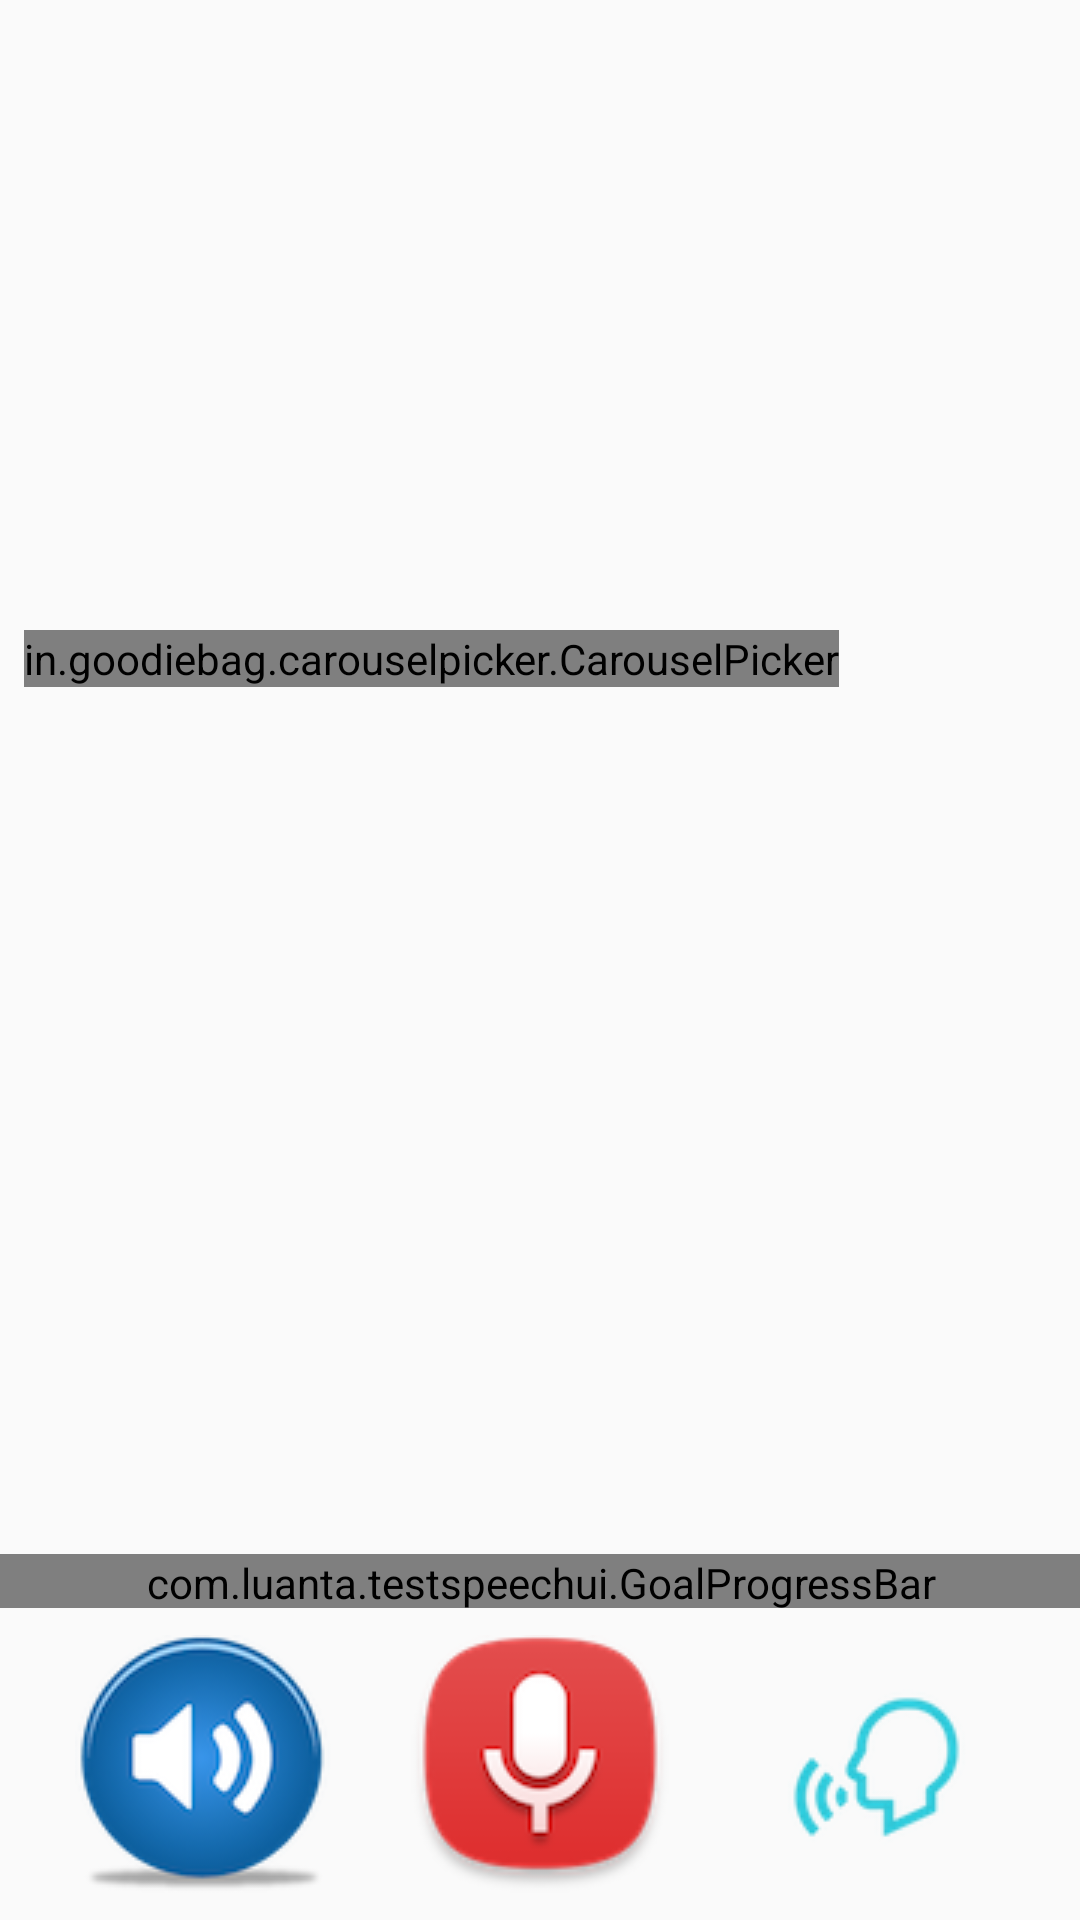

Icon bounding boxes for this 1080px×1920px phone screenshot, format (x1, y1, x2, y2):
sound on: (80, 1637, 324, 1887)
sound recorder: (422, 1637, 658, 1881)
